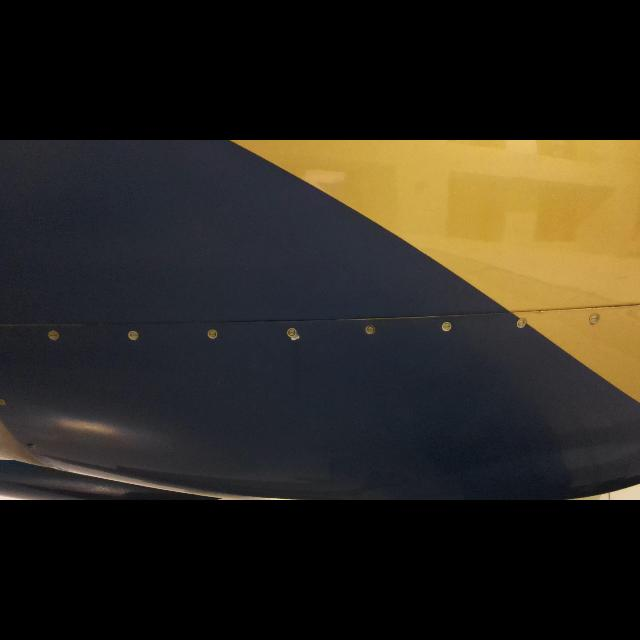Missing Fastener: (26, 440, 36, 450)
